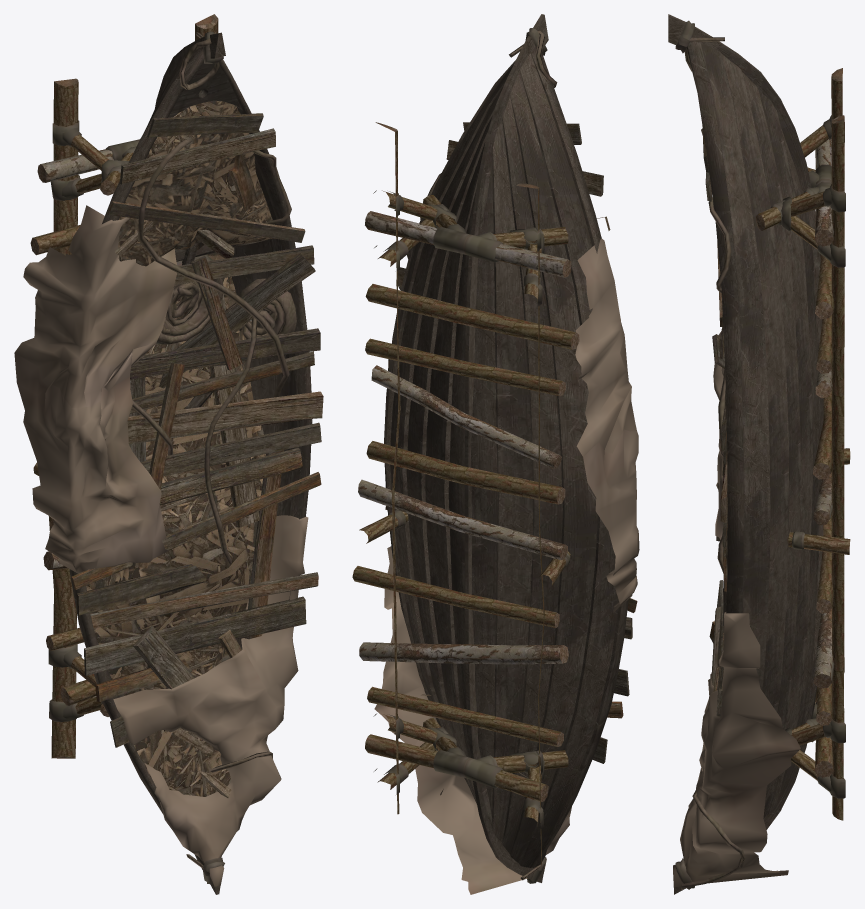
The model's file is GEN_PRO_ShipSkeleton_01A_LOD0-transformed.glb.
3 views of the same model, side by side, from view 1: azimuth 30°, elevation 25°; view 2: azimuth 150°, elevation 25°; view 3: azimuth 270°, elevation 25° (orthographic).
Parts seen in each view (by area): view 1: GEN_PRO_ShipSkeleton_01A_LOD0; view 2: GEN_PRO_ShipSkeleton_01A_LOD0; view 3: GEN_PRO_ShipSkeleton_01A_LOD0.
Part boxes in pixels (bbox=[...]): GEN_PRO_ShipSkeleton_01A_LOD0: bbox=[14, 14, 323, 894]; GEN_PRO_ShipSkeleton_01A_LOD0: bbox=[352, 14, 639, 894]; GEN_PRO_ShipSkeleton_01A_LOD0: bbox=[668, 14, 850, 894].
Size of the model in its own units: 0.0237 by 0.0753 by 0.0142.
Materials: 5 (5 with a texture image).
